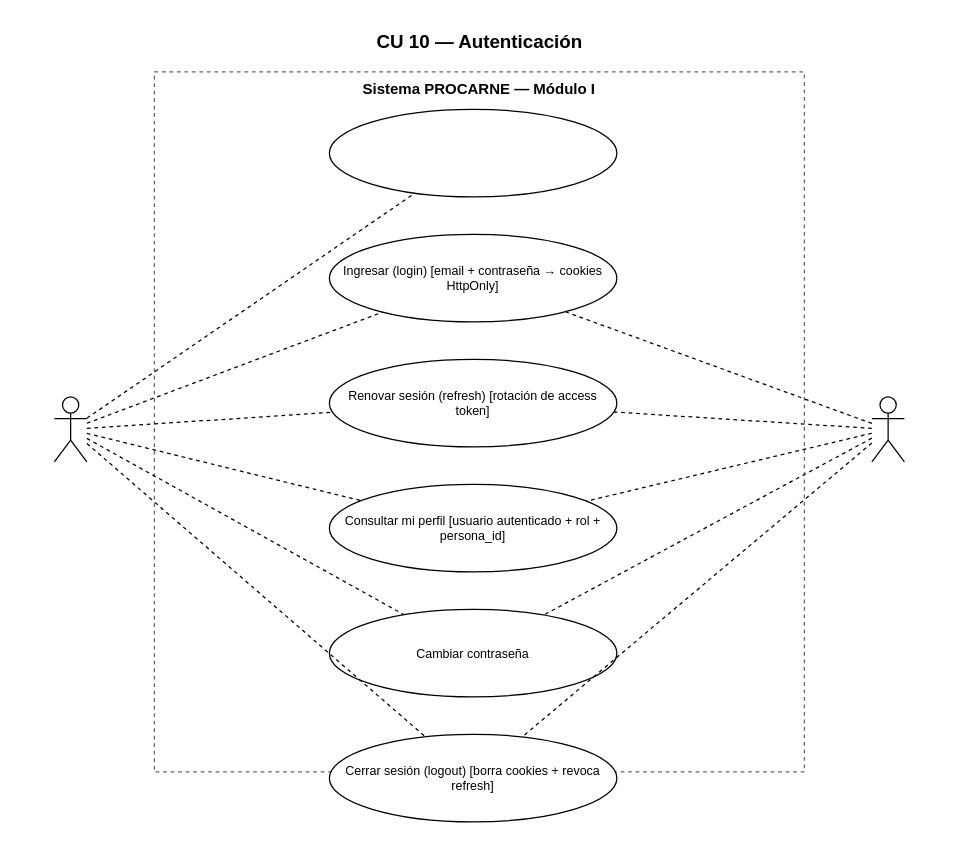
Some shapes in this 966 by 844 pixel diagram are drawn without their labels. Here are the shapes that lost their labels. From the top down, the centre of each, then its label:
At point (472, 152): "Crear cuenta (signup) [email + contraseña + CUIT/DNI → sesión]".
At point (70, 429): "Persona (titular)".
At point (887, 429): "Supervisor / Admin".
